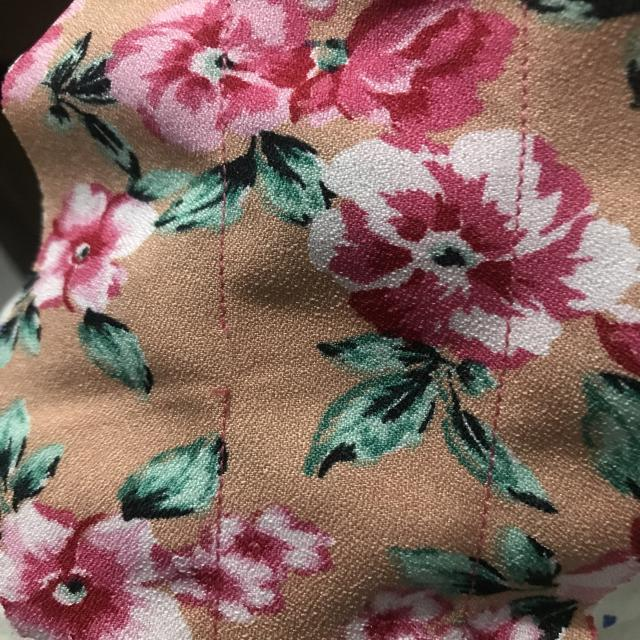broken: (188, 294, 260, 418)
good: (516, 56, 533, 185)
